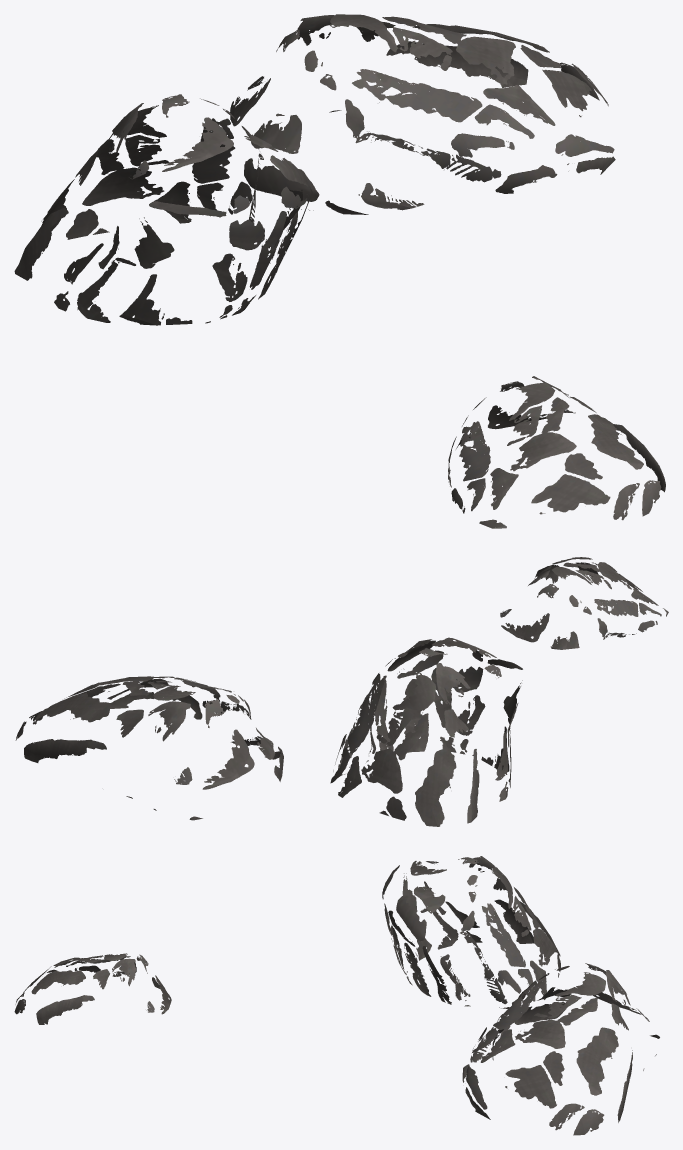
The model's file is SM_ENV_LKNVLD_RockMiddle_G.FBX.
3 views of the same model, one above another, from view 1: azimuth 30°, elevation 25°; view 2: azimuth 150°, elevation 25°; view 3: azimuth 270°, elevation 25° (orthographic). The views are drawn at different scales.
Parts seen in each view (by area): view 1: SM_ENV_LKNVLD_RockMiddle_G; view 2: SM_ENV_LKNVLD_RockMiddle_G; view 3: SM_ENV_LKNVLD_RockMiddle_G.
Part boxes in pixels (x1,y1,x2,y2): SM_ENV_LKNVLD_RockMiddle_G: (14,14,665,528); SM_ENV_LKNVLD_RockMiddle_G: (15,557,668,826); SM_ENV_LKNVLD_RockMiddle_G: (14,856,659,1135).
Bounding box in the file's own units: 681 × 194 × 976.
